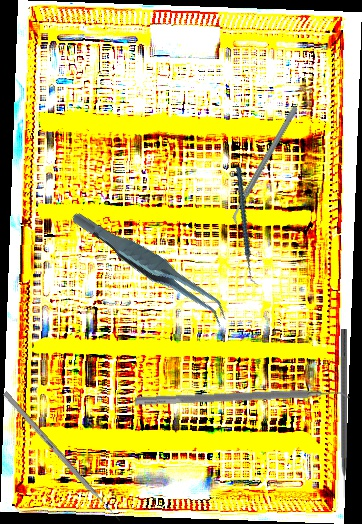Chopper: (198, 105, 332, 227), (211, 166, 284, 286)
Hook Surgical: (339, 329, 347, 498)
Pusher: (2, 391, 122, 523)
Spatula Surgical: (134, 385, 351, 415)
Tissue Forceps: (69, 183, 233, 350)
